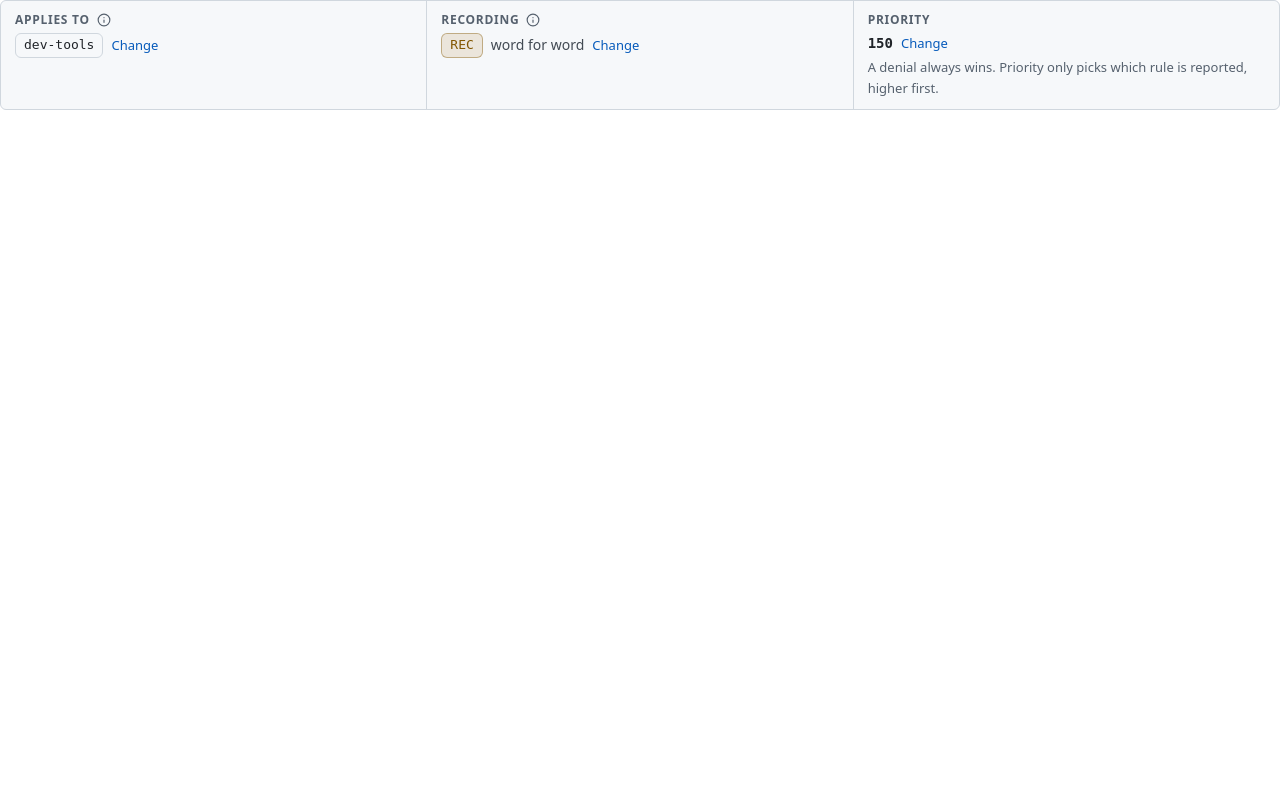
the three facts of a policy › leads with Everyone, then every application role with its holders
The width and height of the screenshot is (1280, 800).
Click the button "Change" next to "dev-tools": (135, 45) [112,36,158,55]
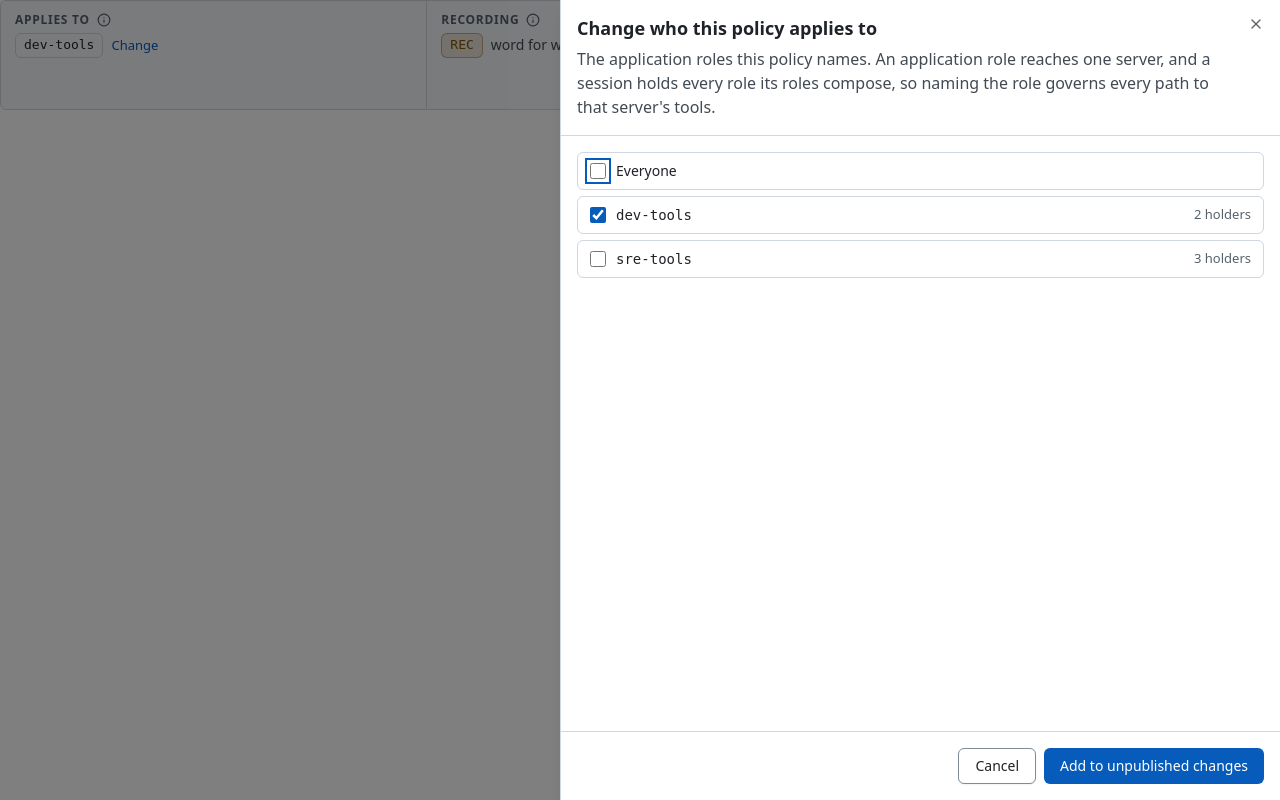
Expected: the dialog shows "2 holders", [1194,206,1251,224]
Expected: the checkbox labelled "Everyone" is not checked, [590,163,606,179]
Expected: the checkbox labelled "dev-tools 2 holders" is checked, [590,207,606,223]
